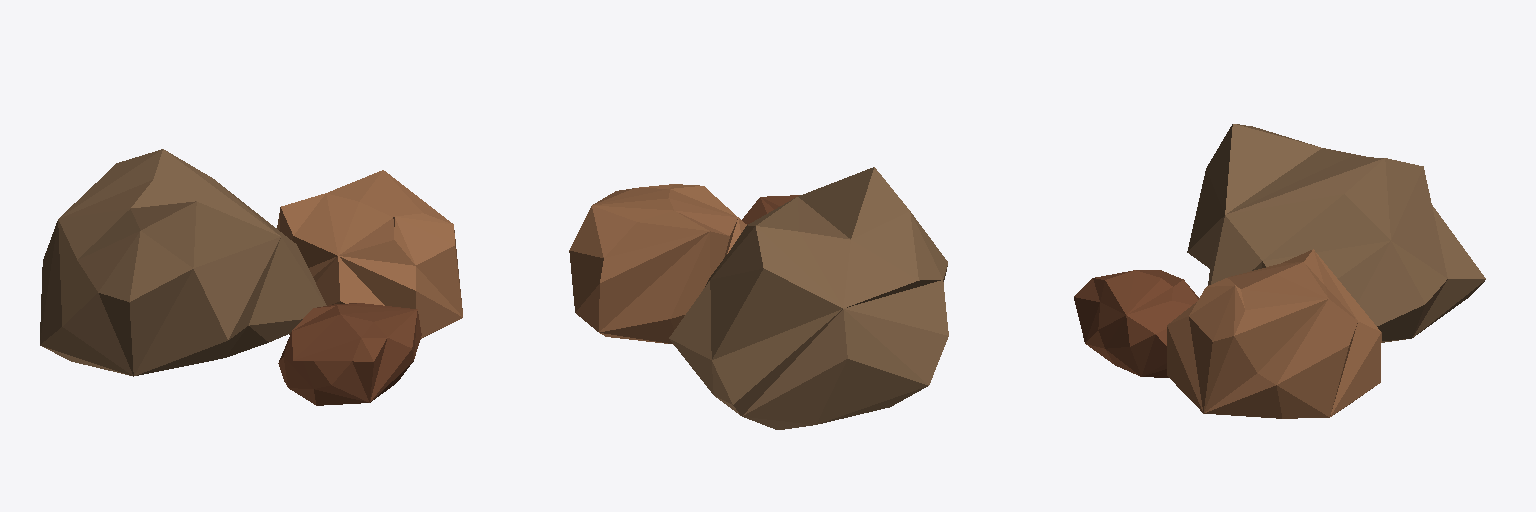
File: stone_cluster.obj
3 renders of one model, left to right at view 1: azimuth 30°, elevation 25°; view 2: azimuth 150°, elevation 25°; view 3: azimuth 270°, elevation 25°, orthographic.
Parts seen in each view (by area): view 1: Cube, Cube.001, Cube.002; view 2: Cube, Cube.001, Cube.002; view 3: Cube, Cube.001, Cube.002.
Part boxes in pixels (bbox=[...]): Cube: bbox=[40, 149, 326, 376]; Cube.001: bbox=[277, 170, 462, 338]; Cube.002: bbox=[278, 303, 421, 405]; Cube: bbox=[669, 167, 948, 429]; Cube.001: bbox=[569, 184, 746, 344]; Cube.002: bbox=[742, 195, 799, 224]; Cube: bbox=[1187, 124, 1485, 342]; Cube.001: bbox=[1167, 249, 1381, 418]; Cube.002: bbox=[1074, 270, 1198, 377].
Bounding box in the file's own units: 4.08 × 1.9 × 3.87.